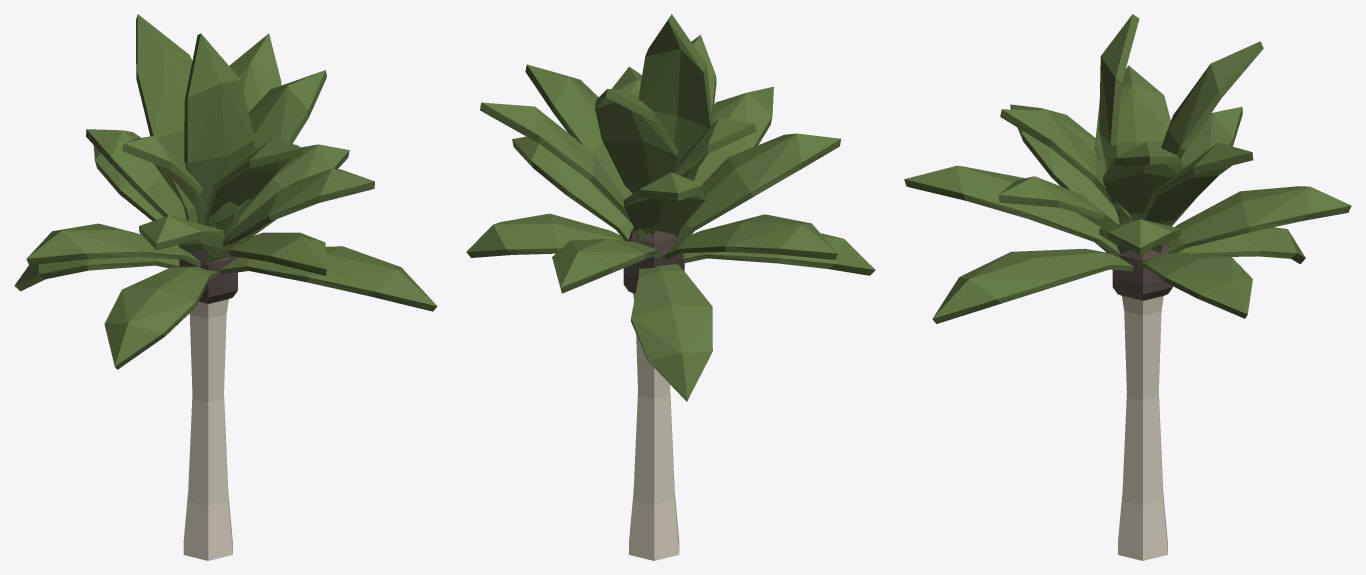
Rendered from Tree_Palm_02.FBX.
3 views of the same model, side by side, from view 1: azimuth 30°, elevation 25°; view 2: azimuth 150°, elevation 25°; view 3: azimuth 270°, elevation 25° (orthographic). The views are drawn at different scales.
Visible parts, largest first — view 1: Tree_Palm_02; view 2: Tree_Palm_02; view 3: Tree_Palm_02.
Boxes of the visible parts, x1=… form: Tree_Palm_02: x1=14, y1=14, x2=437, y2=560; Tree_Palm_02: x1=466, y1=14, x2=875, y2=560; Tree_Palm_02: x1=904, y1=14, x2=1351, y2=560.
Bounding box in the file's own units: 8.21 × 12.75 × 9.79.
1 material, 1 textured.
